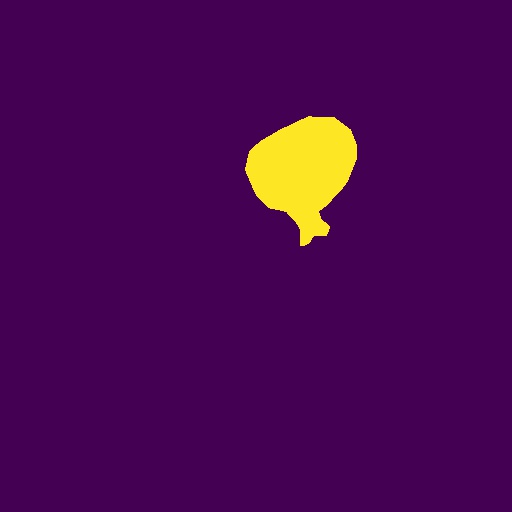Gliomia_tumour: (245, 116, 357, 246)
